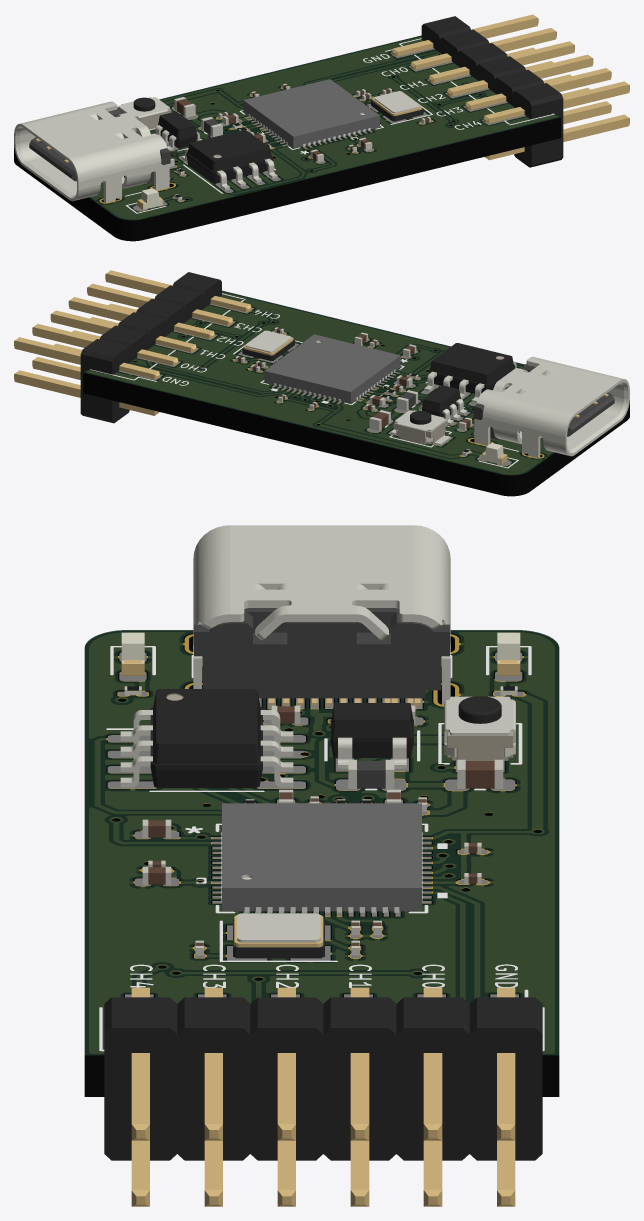
Rendered from board.glb.
The picture shows the model from 3 angles, top to bottom: view 1: azimuth 30°, elevation 25°; view 2: azimuth 150°, elevation 25°; view 3: azimuth 270°, elevation 25°; orthographic projection. The views are drawn at different scales.
Parts seen in each view (by area): view 1: KiCad board and original silkscreen; view 2: KiCad board and original silkscreen; view 3: KiCad board and original silkscreen.
Part boxes in pixels (bbox=[...]): KiCad board and original silkscreen: bbox=[14, 14, 629, 241]; KiCad board and original silkscreen: bbox=[14, 270, 629, 496]; KiCad board and original silkscreen: bbox=[84, 525, 559, 1206].
Bounding box in the file's own units: 0.0431 × 0.00708 × 0.0165.
